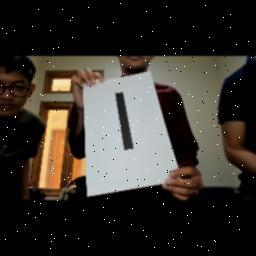i: (109, 89, 141, 161)
